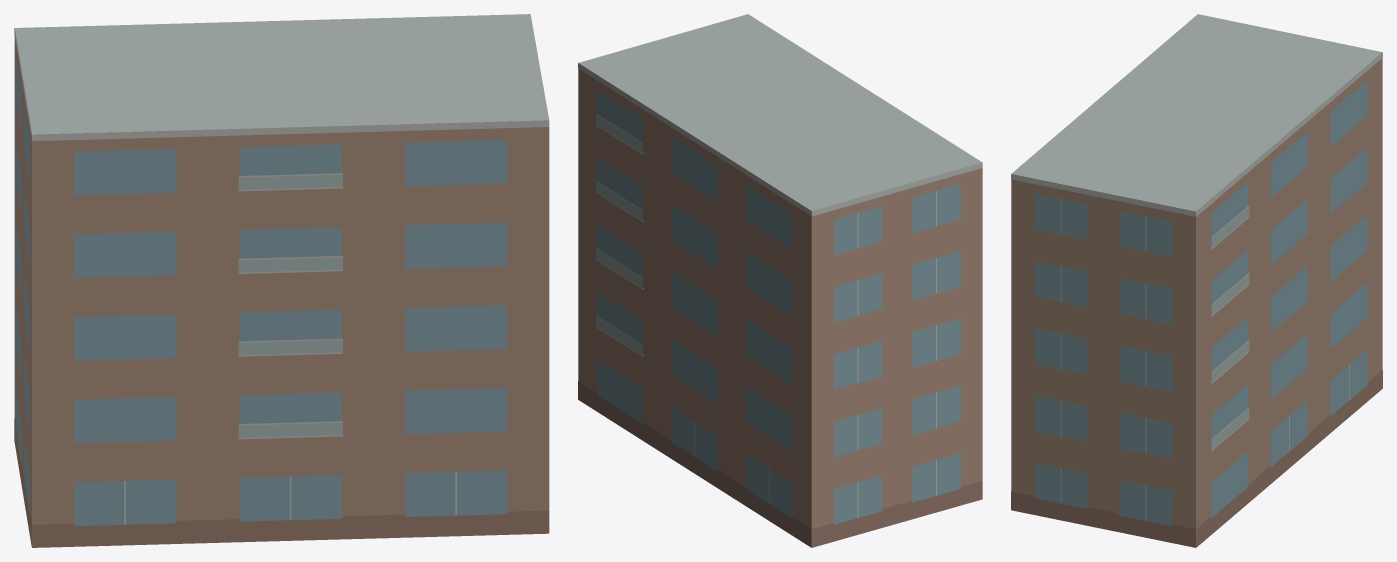
Rendered from survey-upis-32982846.glb.
3 views of the same model, side by side, from view 1: azimuth 30°, elevation 25°; view 2: azimuth 150°, elevation 25°; view 3: azimuth 270°, elevation 25° (orthographic). The views are drawn at different scales.
Parts seen in each view (by area): view 1: survey-upis-32982846.tmp; view 2: survey-upis-32982846.tmp; view 3: survey-upis-32982846.tmp.
Part boxes in pixels (x1,y1,x2,y2): survey-upis-32982846.tmp: (14,14,549,547); survey-upis-32982846.tmp: (578,14,982,547); survey-upis-32982846.tmp: (1011,14,1382,547).
Bounding box in the file's own units: 19.16 × 15.2 × 15.23.
